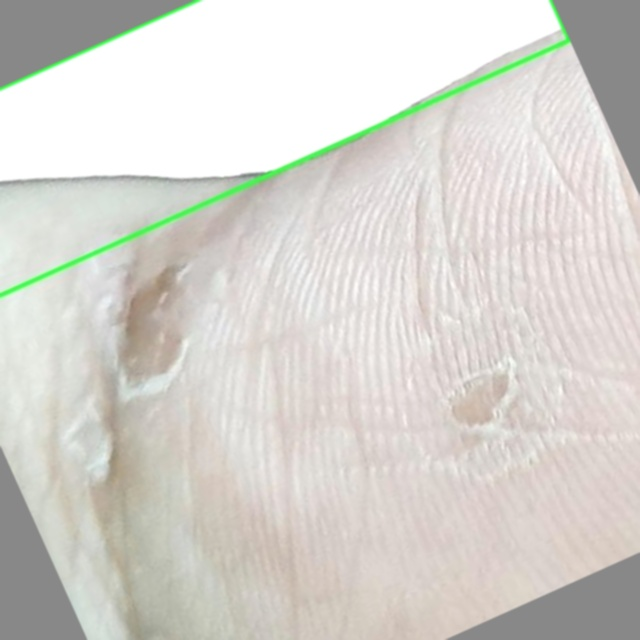Atopic Dermatitis: (0, 0, 569, 295)
